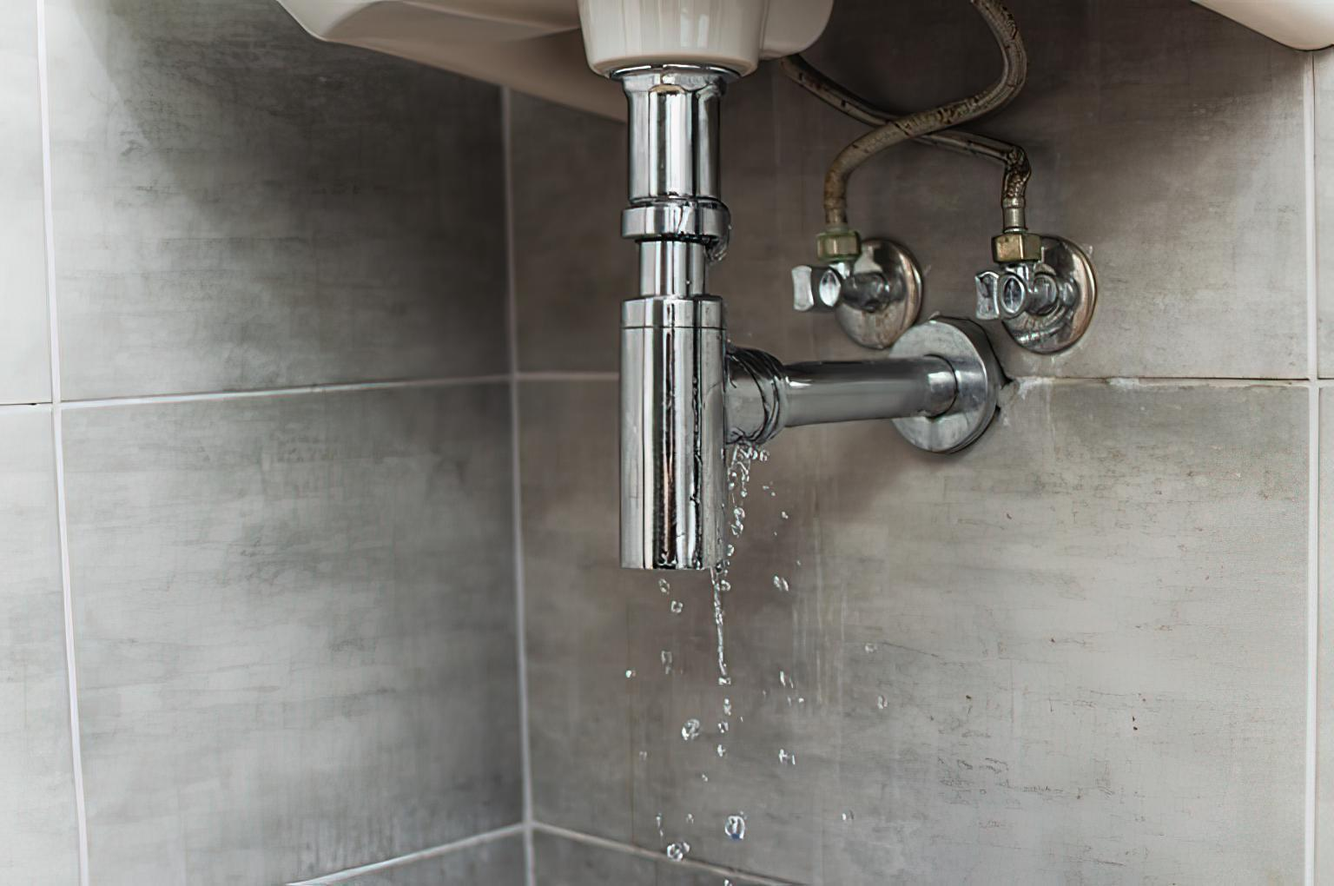water drop: (724, 813, 749, 840), (665, 840, 692, 863), (681, 719, 703, 743), (778, 748, 798, 768), (773, 576, 791, 592), (670, 599, 684, 616), (657, 579, 671, 595)
